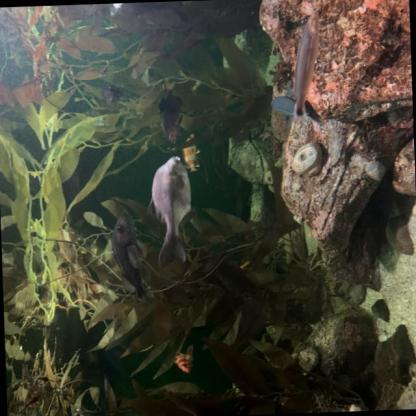fish: (144, 152, 195, 269), (110, 209, 154, 307), (290, 5, 324, 121), (156, 74, 186, 148), (267, 93, 310, 123), (180, 129, 200, 175), (173, 343, 196, 377), (99, 80, 123, 110)
